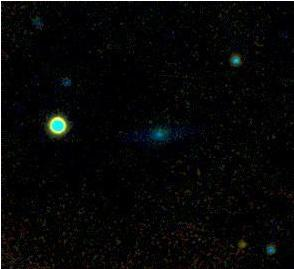star: (226, 230, 256, 260)
